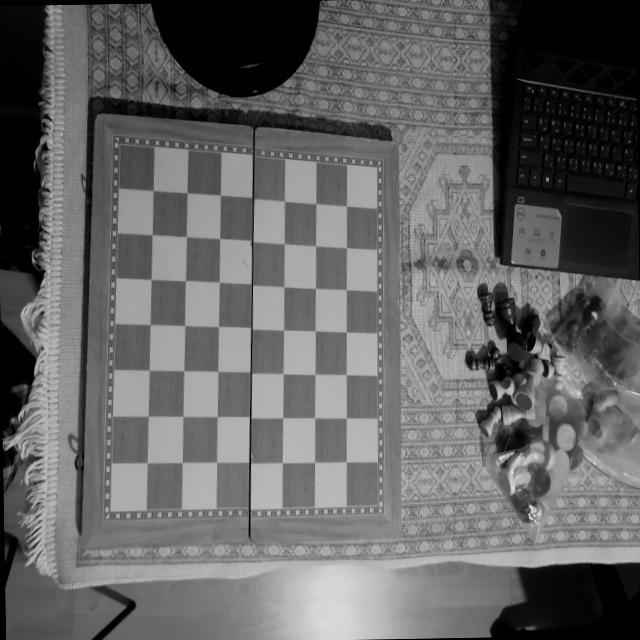corners: (382, 135, 404, 155), (392, 525, 409, 548), (88, 108, 106, 125), (76, 539, 92, 554)
